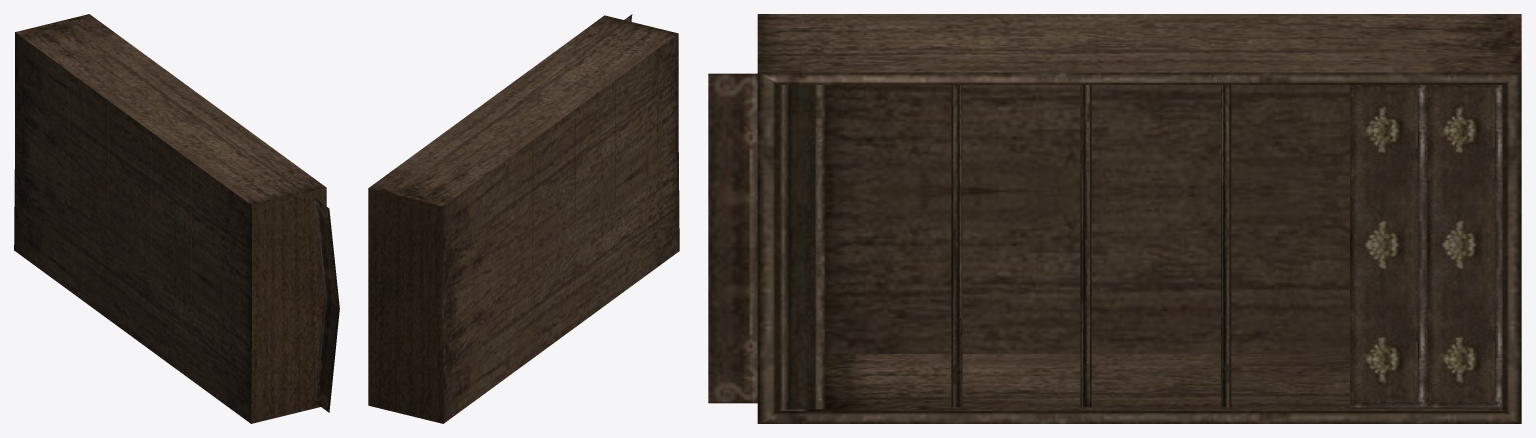
The model's file is furniture_bookshelves1.glb.
3 renders of one model, left to right at view 1: azimuth 30°, elevation 25°; view 2: azimuth 150°, elevation 25°; view 3: azimuth 270°, elevation 25°, orthographic. The views are drawn at different scales.
Size of the model in its own units: 13.02 by 36 by 75.53.
1 material, 1 textured.
